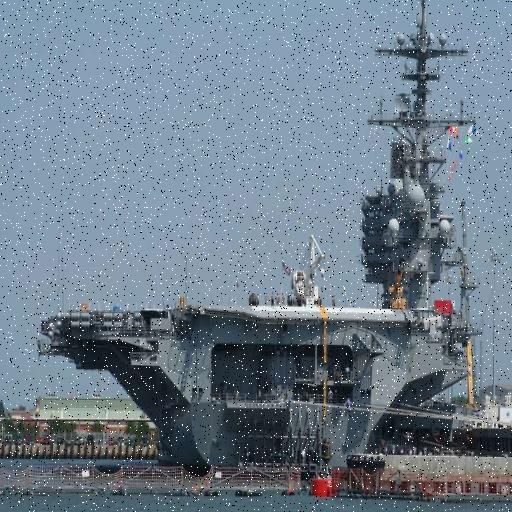Portanaves: (37, 1, 485, 481)
